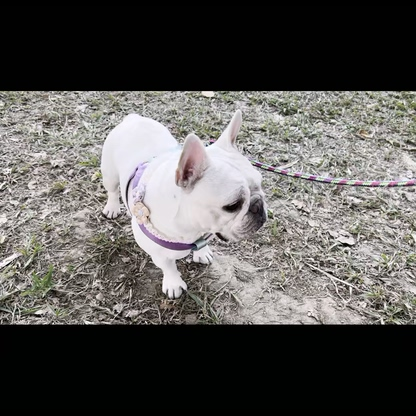bulldog: (96, 107, 274, 301)
